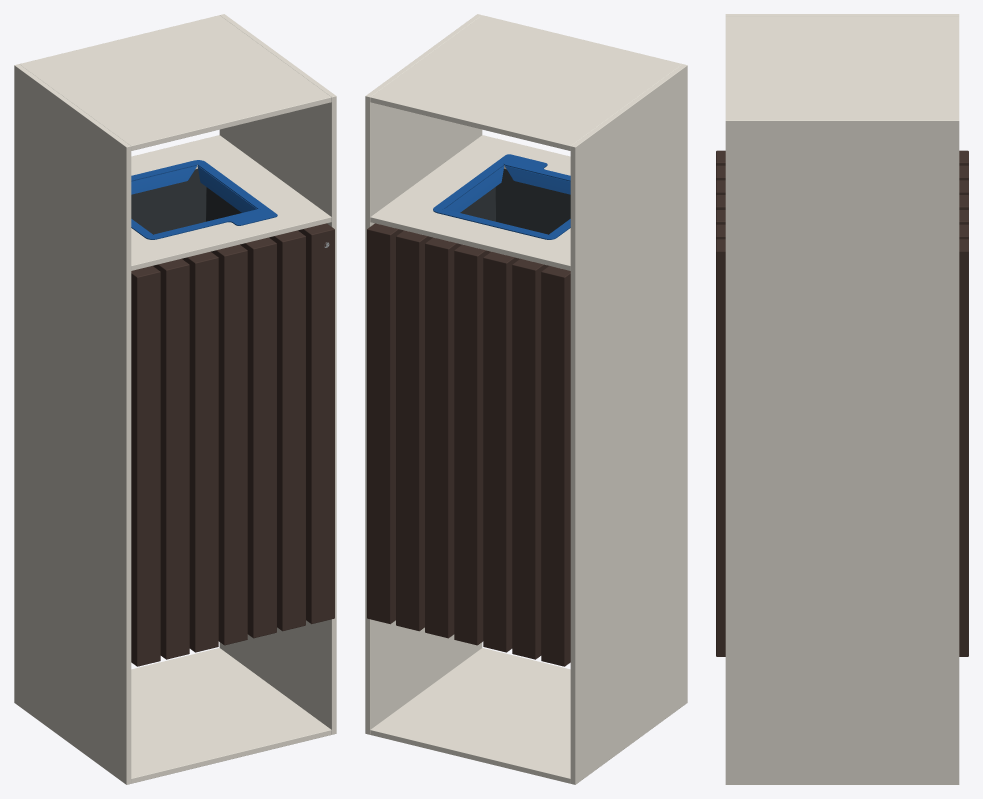
The model's file is K2_single.glb.
The picture shows the model from 3 angles, left to right: view 1: azimuth 30°, elevation 25°; view 2: azimuth 150°, elevation 25°; view 3: azimuth 270°, elevation 25°; orthographic projection. The views are drawn at different scales.
Visible parts, largest first — view 1: K2_single; view 2: K2_single; view 3: K2_single.
Part boxes in pixels (x1,y1,x2,y2): K2_single: (14, 14, 336, 784); K2_single: (365, 14, 687, 784); K2_single: (716, 14, 968, 784).
Size of the model in its own units: 0.345 by 1 by 0.345.
